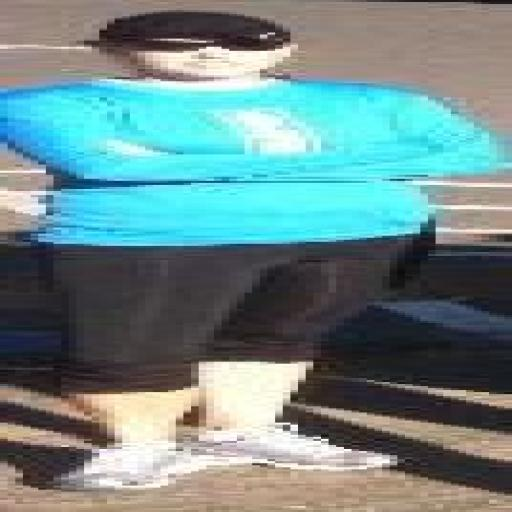person: (0, 11, 504, 489)
